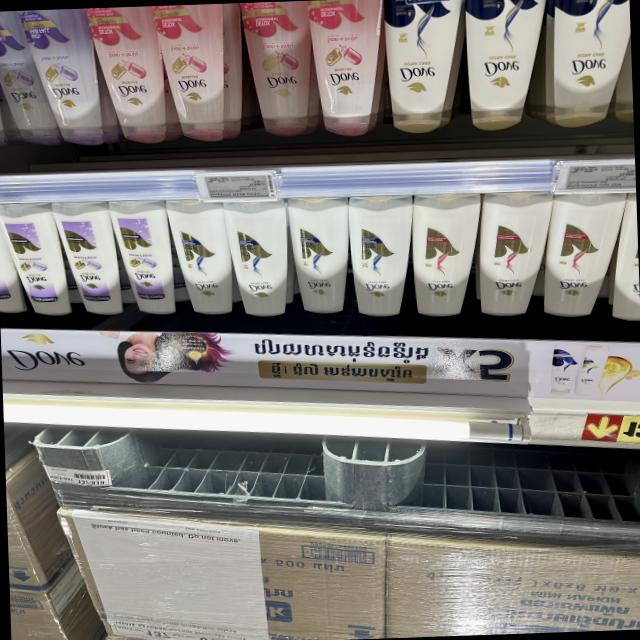2: (256, 358, 423, 385)
Yolov11_80vkh: (245, 335, 430, 363)
